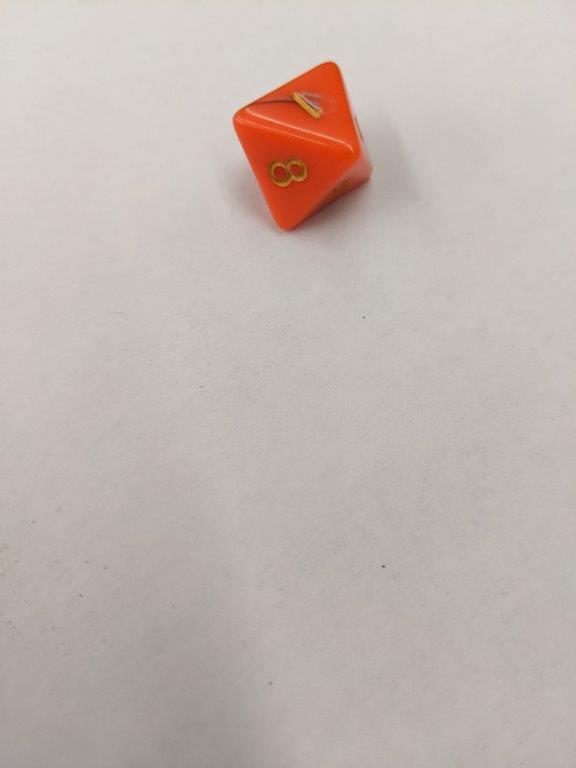d8-1: (231, 60, 376, 233)
